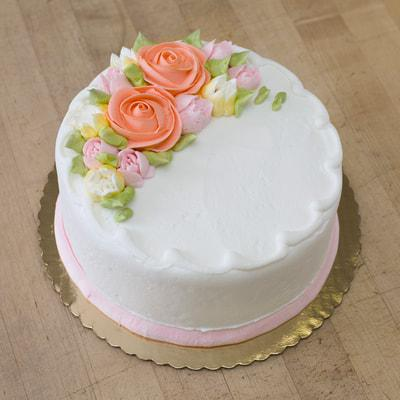cake: (51, 37, 345, 328)
